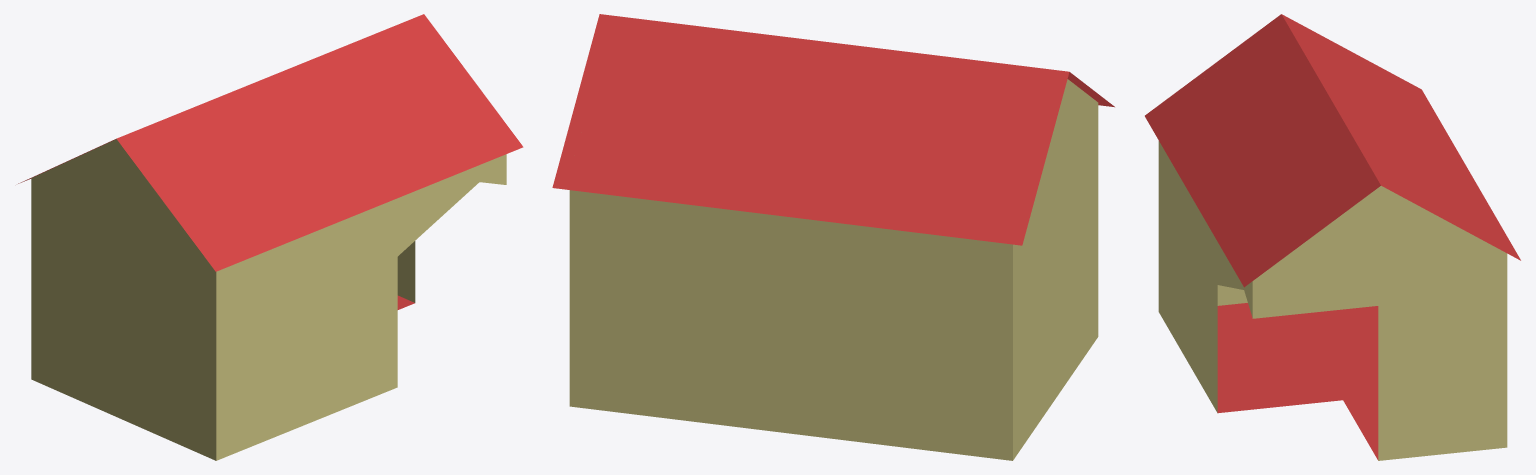
3 views of the same model, side by side, from view 1: azimuth 30°, elevation 25°; view 2: azimuth 150°, elevation 25°; view 3: azimuth 270°, elevation 25° (orthographic). The views are drawn at different scales.
Size of the model in its own units: 20.06 by 15.95 by 13.08.
